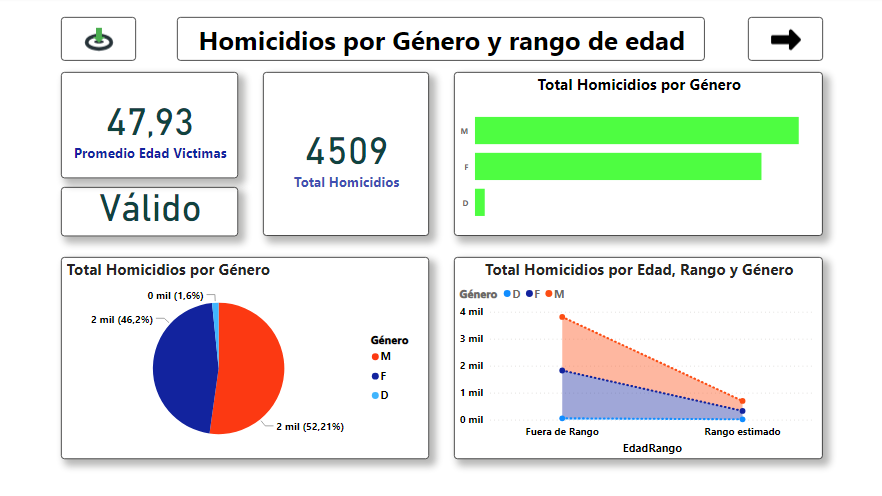

This screenshot's page, from the dashboard's own definition file:
{"tool":"powerbi","page":{"name":"Género y Edad","canvas":[1280,720],"ordinal":1},"visuals":[{"type":"card","fields":{"Values":["Medidas.Promedio Edad Victimas"]},"box":[92.2,108,254.9,152.6],"z":0},{"type":"barChart","fields":{"Y":["Medidas.Total Homicidios"],"Category":["Víctimas.Género"]},"box":[658.1,108,531.4,236.2],"z":1000},{"type":"stackedAreaChart","title":"Total Homicidios por Edad, Rango y Género","fields":{"Category":["Víctimas.EdadRango"],"Y":["Medidas.Total Homicidios"],"Series":["Víctimas.Género"]},"box":[658.1,374.4,531.4,290.9],"z":2000},{"type":"pieChart","fields":{"Y":["Medidas.Total Homicidios"],"Category":["Víctimas.Género"]},"box":[92.2,374.4,529.9,290.9],"z":3000},{"type":"card","fields":{"Values":["Medidas.Total Homicidios"]},"box":[383,108,239,236.2],"z":4000},{"type":"textbox","box":[259.2,28.8,760.3,63.4],"z":5000},{"type":"actionButton","box":[1081.4,28.8,108,63.4],"z":6000},{"type":"actionButton","box":[92.2,28.8,108,63.4],"z":7000},{"type":"card","fields":{"Values":["Medidas.Validez Promedio"]},"box":[92.2,273.6,254.9,70.6],"z":8000}]}

Visuals, with their boxes in screenshot pixels (x1, y1, x2, y2), scaled from the page's 1280x720 canvas onto the 882x496 screenshot:
card - Medidas.Promedio Edad Victimas: 64,74,239,180
barChart - Medidas.Total Homicidios x Víctimas.Género: 453,74,820,237
"Total Homicidios por Edad, Rango y Género" stackedAreaChart: 453,258,820,458
pieChart - Medidas.Total Homicidios x Víctimas.Género: 64,258,429,458
card - Medidas.Total Homicidios: 264,74,429,237
textbox: 179,20,702,64
actionButton: 745,20,820,64
actionButton: 64,20,138,64
card - Medidas.Validez Promedio: 64,188,239,237
